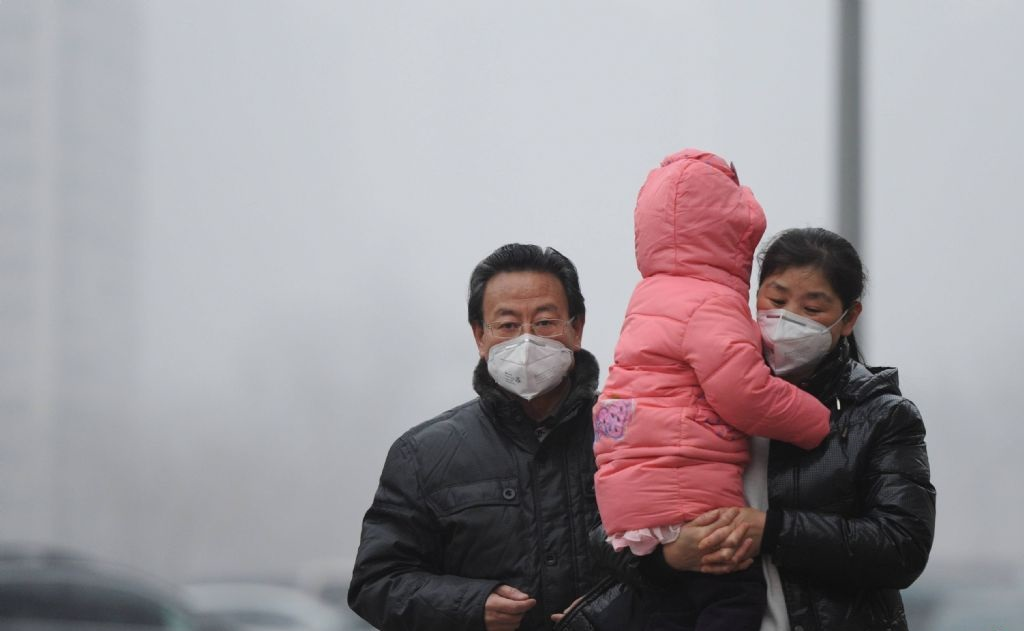face_mask: (484, 273, 574, 398), (757, 265, 842, 372)
